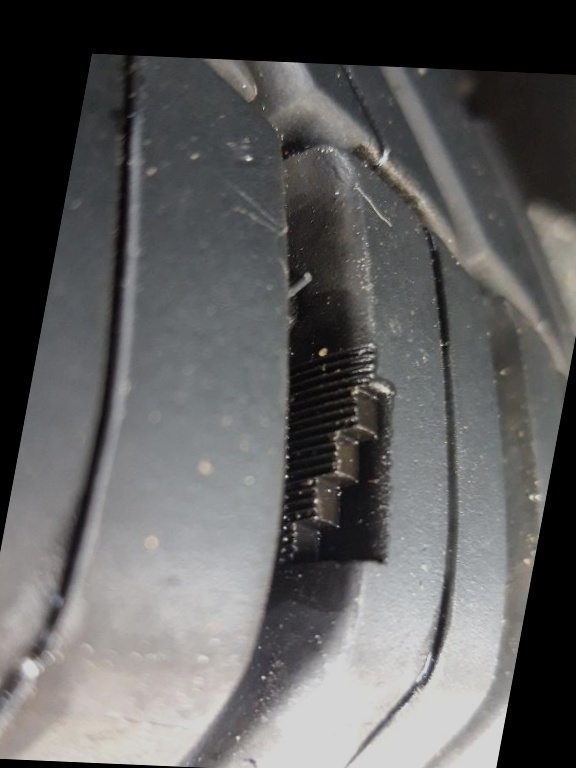temoin:90: (246, 336, 436, 586)
